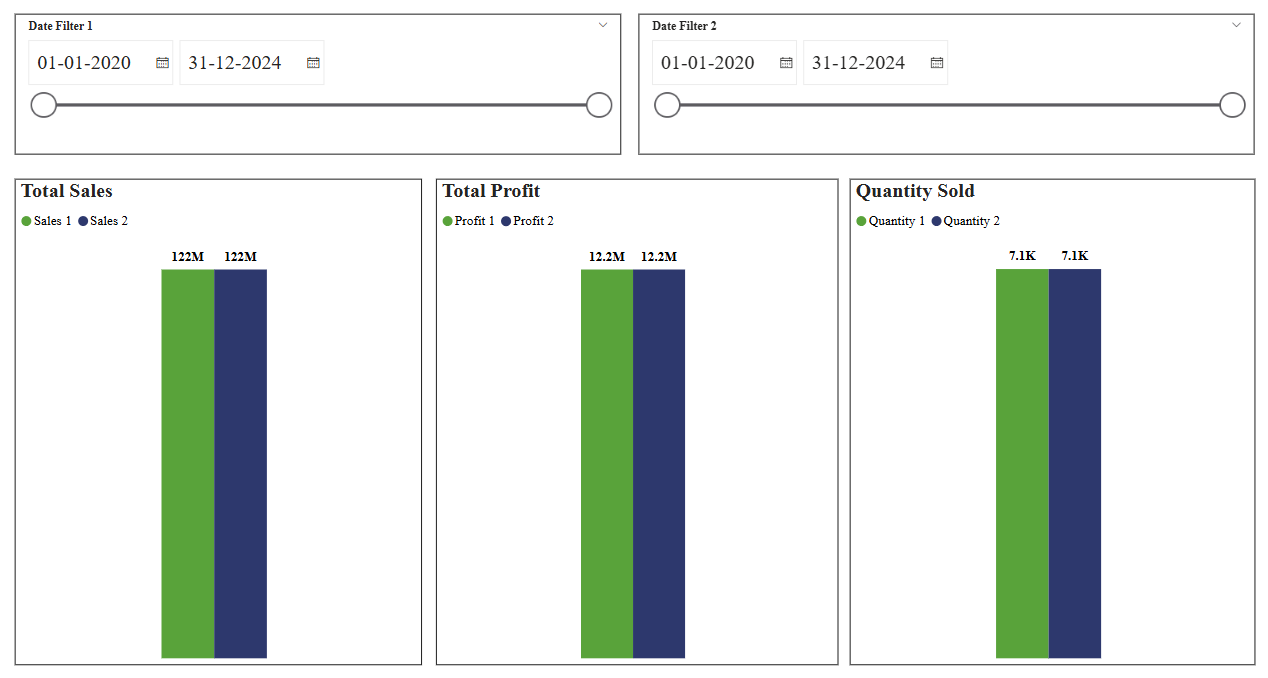

The dashboard page shown, as its layout file describes it:
{"tool":"powerbi","page":{"name":"Comparision 1","canvas":[1280,720],"ordinal":2},"visuals":[{"type":"slicer","fields":{"Values":["Date Table 1.Date"]},"box":[23.2,18.3,606.5,140.6],"z":0},{"type":"slicer","fields":{"Values":["Date Table 2.Date"]},"box":[648.1,18.3,616.3,140.6],"z":1000},{"type":"clusteredColumnChart","title":"Total Sales","fields":{"Y":["Sum(Facts Table.Net Sales)","Date Table 1.Sum of Sales"]},"box":[23.2,183.4,407.2,486.7],"z":2000},{"type":"clusteredColumnChart","title":"Total Profit","fields":{"Y":["Sum(Facts Table.Profit)","Measure Table.Total Profit"]},"box":[445.1,183.4,402.3,486.7],"z":3000},{"type":"clusteredColumnChart","title":"Quantity Sold","fields":{"Y":["Measure Table.Quantity Sold","Sum(Facts Table.Units Sold)"]},"box":[858.4,183.4,406,486.7],"z":4000}]}

Visuals, with their boxes on the page's 1280x720 design canvas (x1, y1, x2, y2). These are canvas units, not pixel positions in the 1268x678 screenshot, which may show the page scaled, cropped or inside an application window:
slicer - Date Table 1.Date: [23,18,630,159]
slicer - Date Table 2.Date: [648,18,1264,159]
"Total Sales" clusteredColumnChart: [23,183,430,670]
"Total Profit" clusteredColumnChart: [445,183,847,670]
"Quantity Sold" clusteredColumnChart: [858,183,1264,670]
